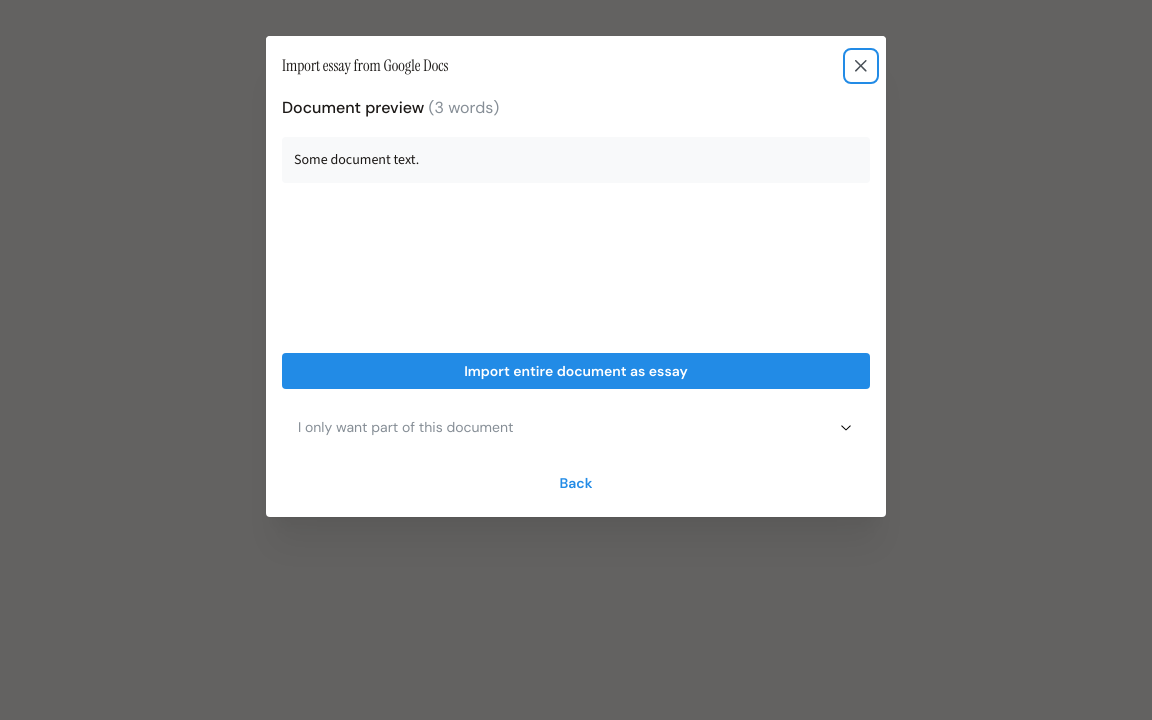
GDocImportDialog › shows bookmark tutorial accordion and refresh button when no bookmarks
Expected: the text "I only want part of this document" is shown, [298,418,514,436]
Note: Expand accordion
Click the button "I only want part of this document".
click(372, 427)  # box [282,405,870,449]
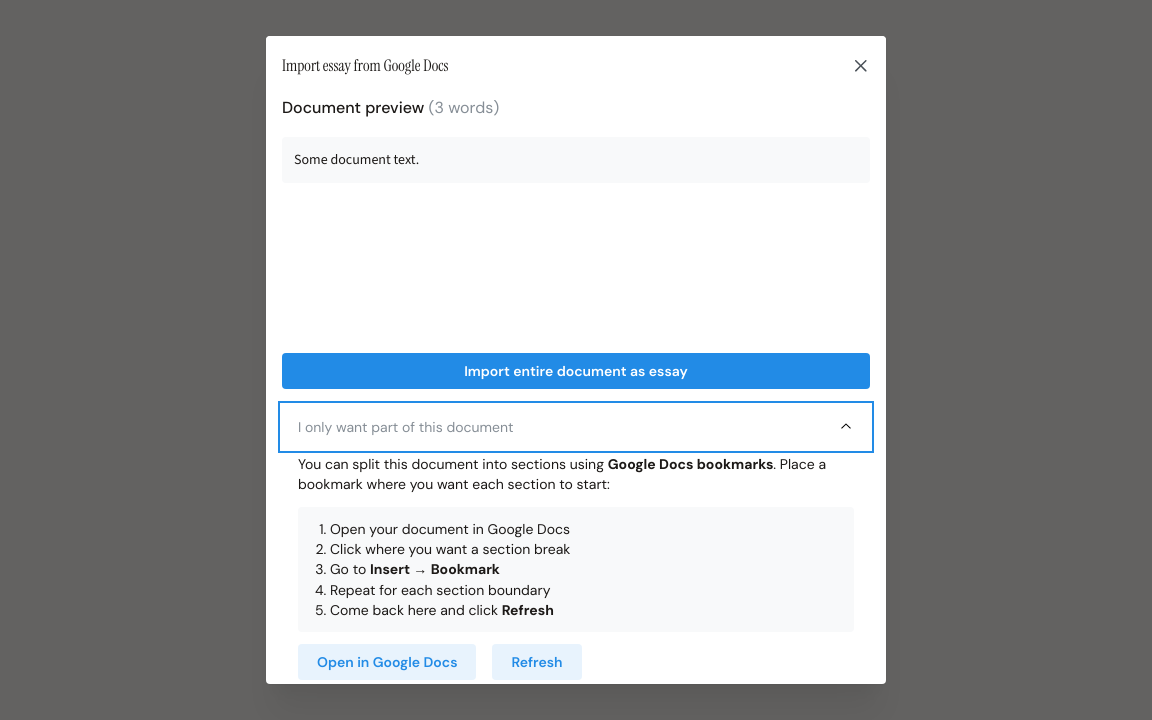
Expected: the text "Google Docs bookmarks" is shown, [608,455,773,473]
Expected: the button "Open in Google Docs" is shown, [317,653,458,671]
